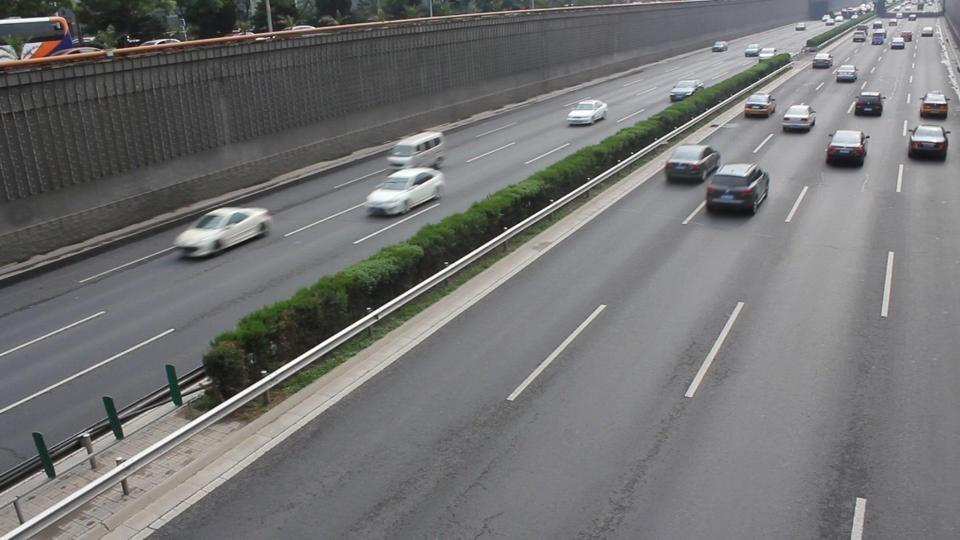car: (173, 206, 273, 259), (364, 166, 447, 217), (704, 162, 771, 216), (664, 144, 722, 184), (386, 132, 448, 169), (825, 128, 871, 168), (907, 125, 949, 162), (566, 100, 608, 126), (781, 104, 817, 133), (918, 90, 949, 119), (744, 92, 777, 118), (669, 78, 703, 102), (851, 92, 883, 117), (835, 64, 858, 83), (0, 47, 18, 65), (812, 54, 833, 69), (889, 37, 905, 50)
